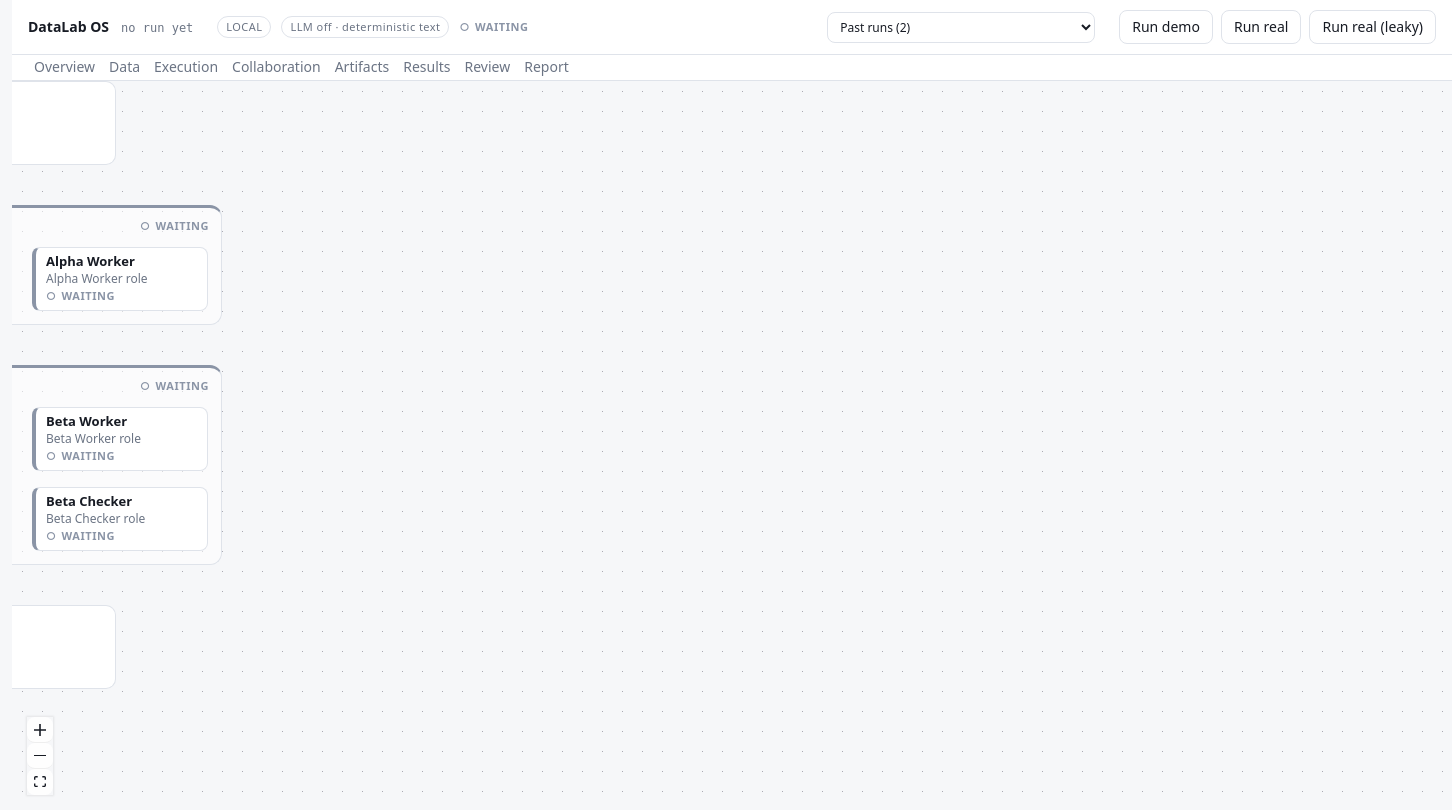
Test: latest user action wins › a pending start cannot override a later selection on resolve
Click the button "Run demo" at [1166, 27], box [1119, 10, 1213, 44]
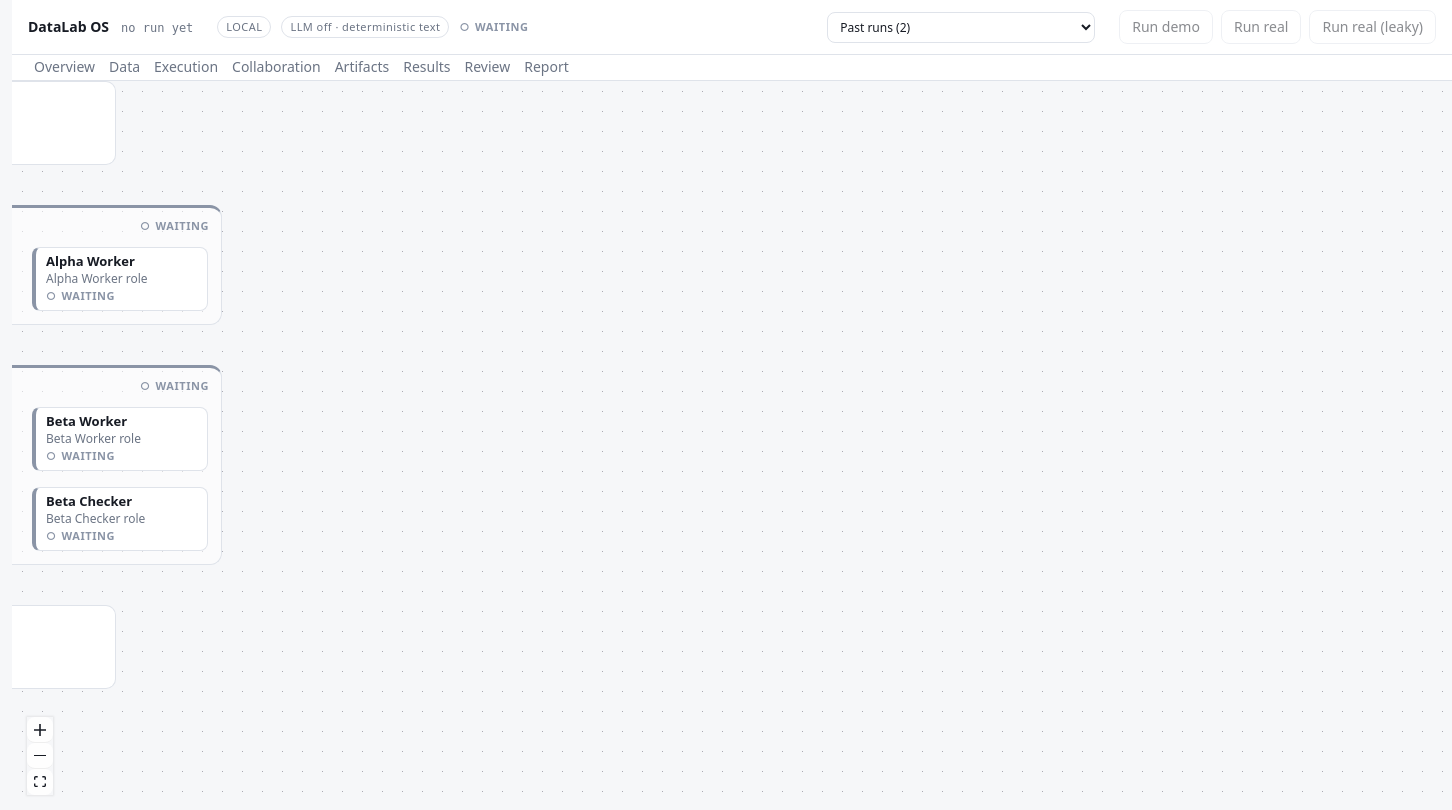
Select "#cd34 · real sales.csv · error · Jan 1, 12:00" in the dropdown named "Past runs" at [961, 27], box [827, 12, 1095, 43]
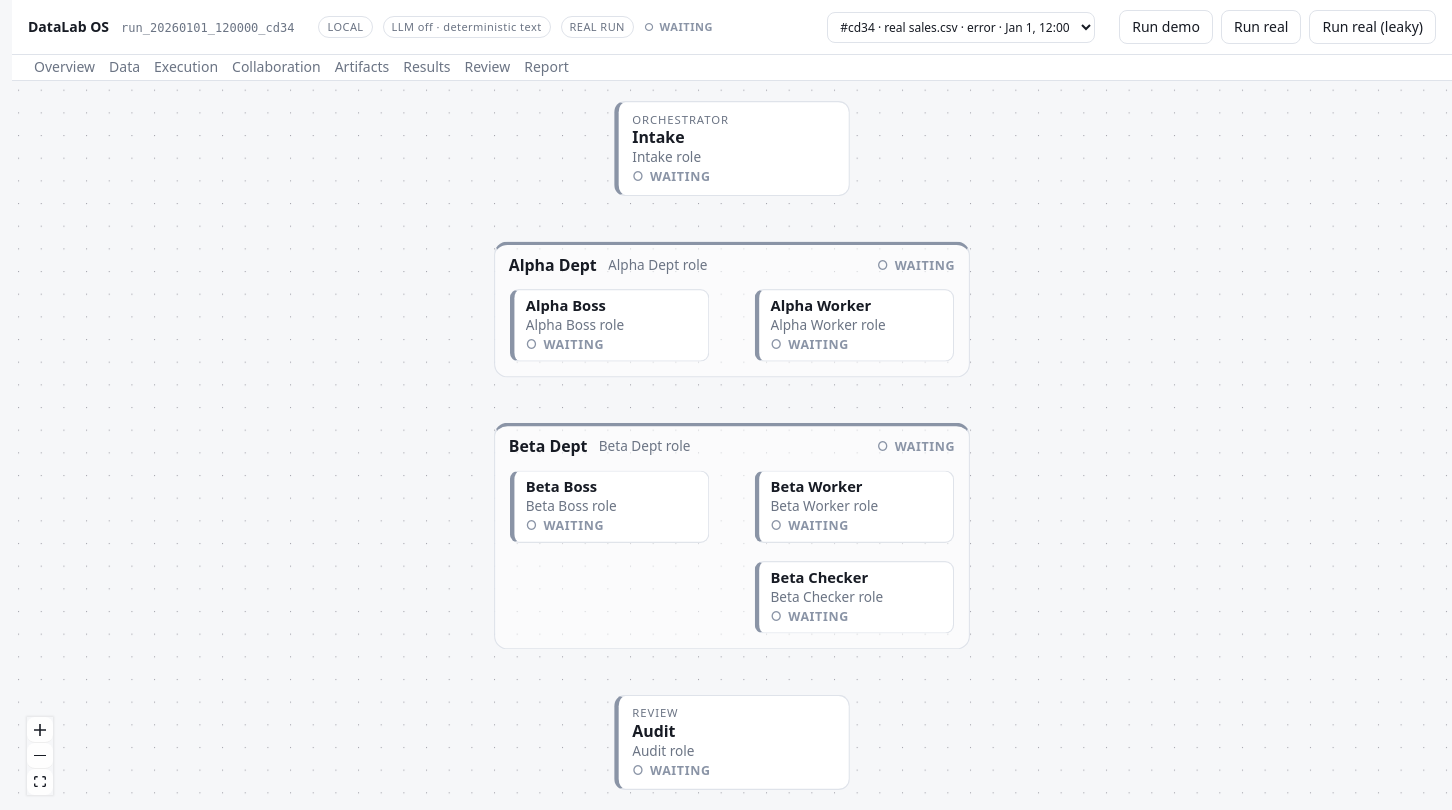
Expected: the button "Run demo" is enabled, [1119, 10, 1213, 44]
